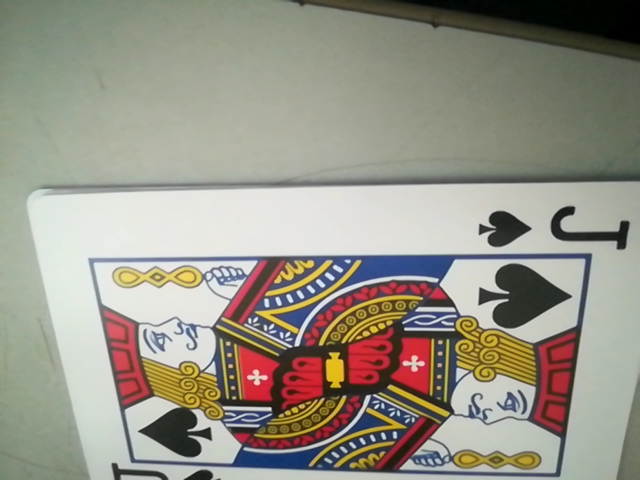ht j: (469, 197, 630, 254)
